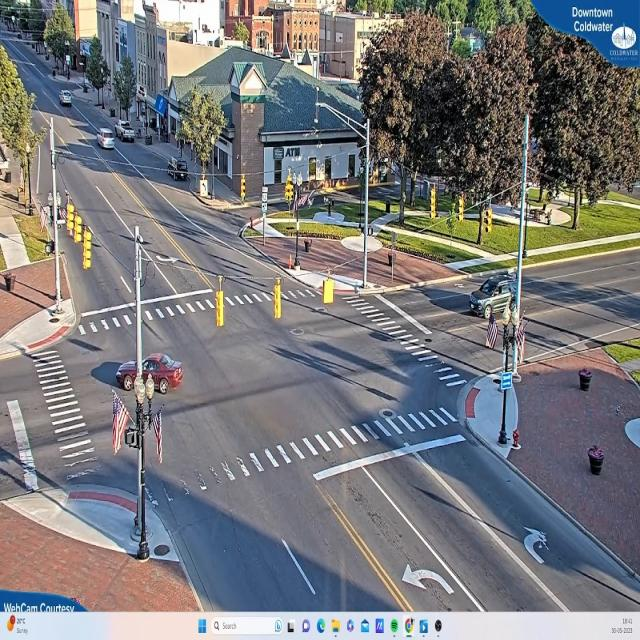car: (115, 354, 183, 391), (471, 270, 517, 322)
